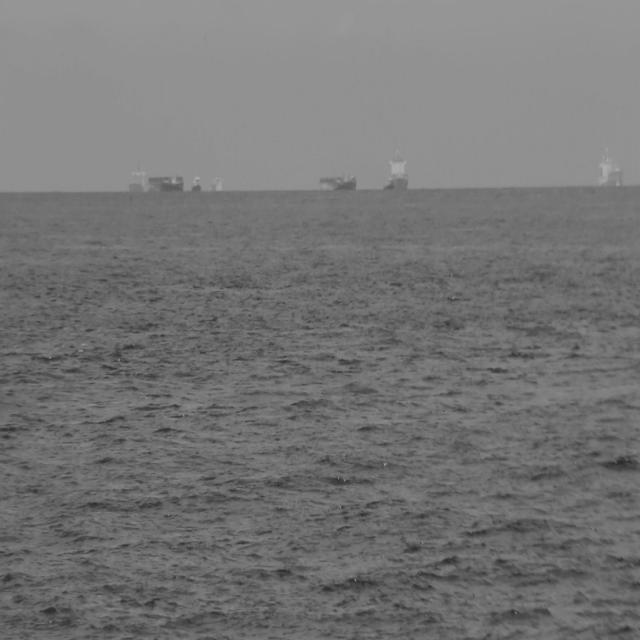ship: (128, 163, 184, 194), (380, 144, 410, 192), (596, 144, 623, 189), (318, 170, 358, 192), (190, 174, 203, 194)
